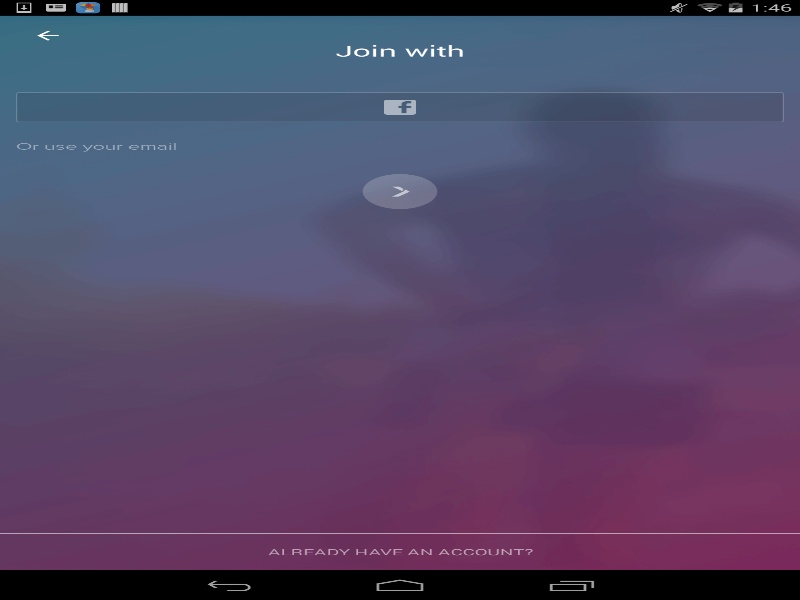Button: (0, 533, 800, 570), (16, 92, 784, 122), (10, 18, 85, 53)
Input: (16, 131, 784, 161)
